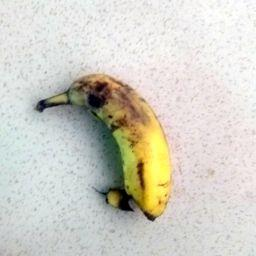banana: (33, 72, 176, 226)
